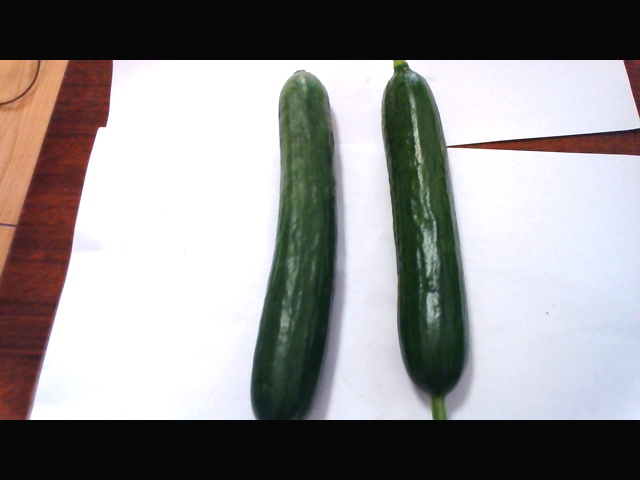cucumber: (370, 60, 472, 416), (251, 65, 347, 421)
